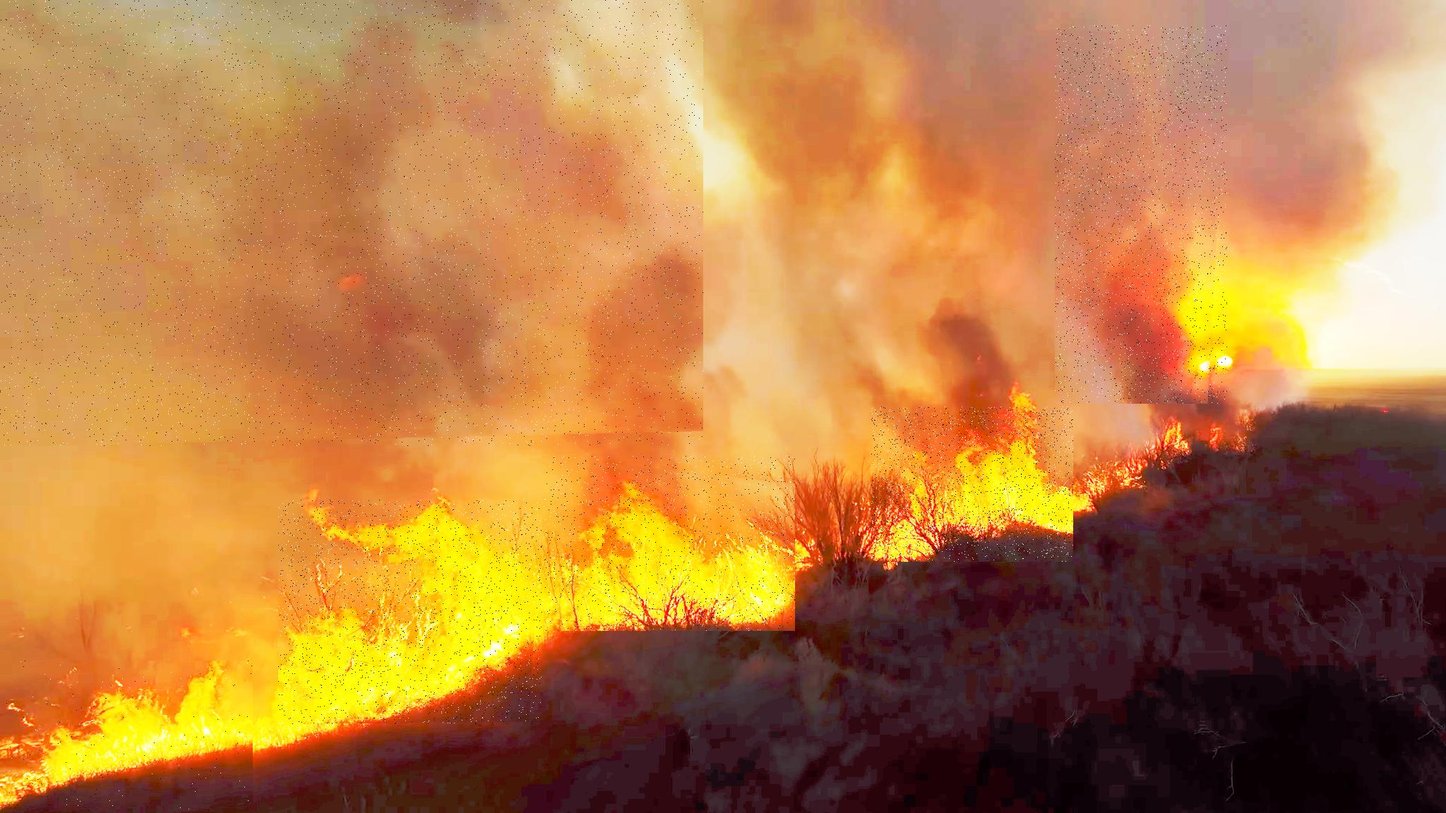fire: (278, 500, 542, 724), (544, 456, 795, 631), (6, 661, 253, 810), (871, 407, 1073, 562)
smoke: (0, 0, 703, 446), (1055, 25, 1227, 404)
